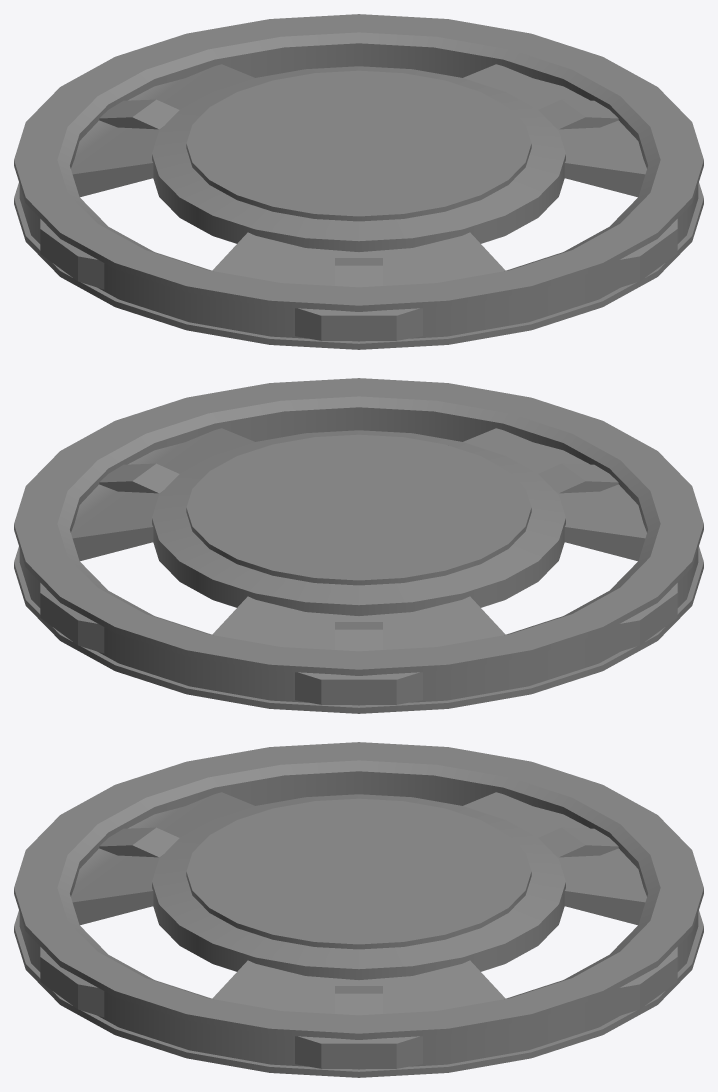
Rendered from Saturn_S4_3125mFairingBase.dae.
3 renders of one model, top to bottom at view 1: azimuth 30°, elevation 25°; view 2: azimuth 150°, elevation 25°; view 3: azimuth 270°, elevation 25°, orthographic.
Visible parts, largest first — view 1: SIV_3125_FairingBase4; view 2: SIV_3125_FairingBase4; view 3: SIV_3125_FairingBase4.
Part boxes in pixels (left/top/right/bottom): SIV_3125_FairingBase4: left=14, top=14, right=703, bottom=349; SIV_3125_FairingBase4: left=14, top=378, right=703, bottom=713; SIV_3125_FairingBase4: left=14, top=742, right=703, bottom=1077.
Bounding box in the file's own units: 3.14 × 0.3024 × 3.12.
